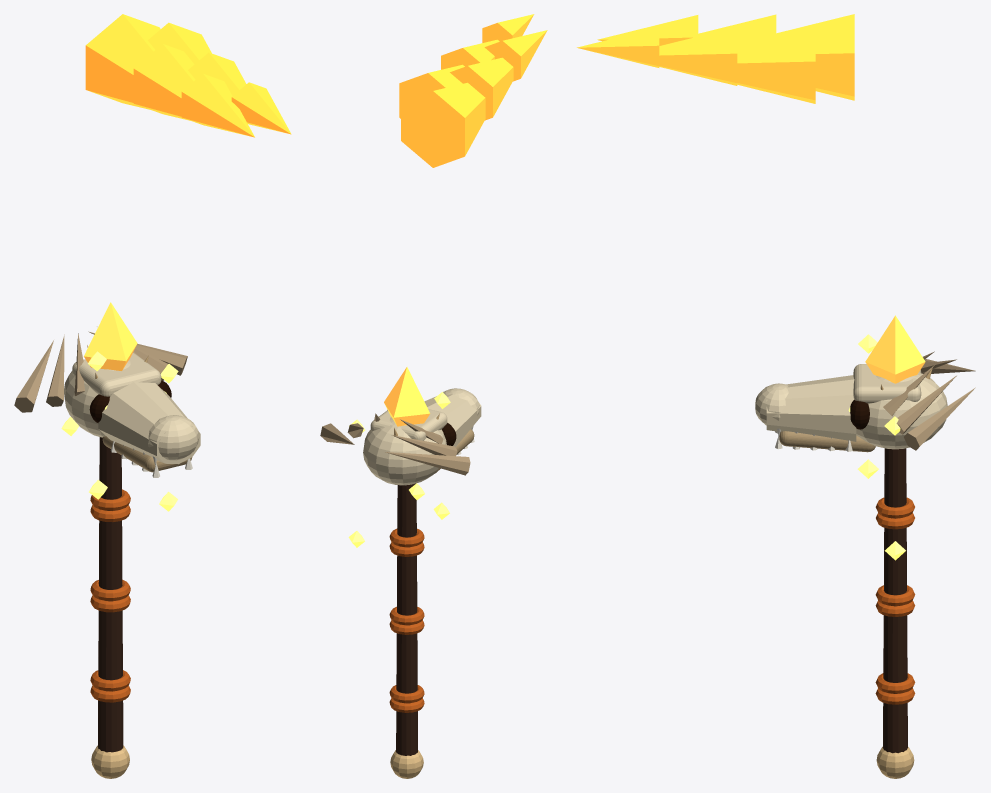
File: drwand.glb
The picture shows the model from 3 angles, left to right: view 1: azimuth 30°, elevation 25°; view 2: azimuth 150°, elevation 25°; view 3: azimuth 270°, elevation 25°; orthographic projection. The views are drawn at different scales.
Parts seen in each view (by area): view 1: flame, bone, rod, wrap, horn, gem, ember, fitting, boneDark, socket; view 2: flame, bone, rod, horn, wrap, gem, fitting, ember; view 3: flame, bone, rod, wrap, horn, gem, boneDark, fitting, ember.
Part boxes in pixels (x1,y1,x2,y2): flame: (85,14,291,137); bone: (64,353,200,464); rod: (98,437,123,752); wrap: (90,489,130,702); horn: (14,331,187,412); gem: (84,302,137,370); ember: (61,351,178,511); fitting: (87,345,148,778); boneDark: (102,436,192,472); socket: (89,380,171,422); flame: (399,14,547,167); bone: (363,388,481,485); rod: (396,483,417,755); horn: (320,413,470,475); wrap: (389,528,424,712); gem: (384,367,430,426); fitting: (390,413,439,778); ember: (348,392,450,547); flame: (577,14,854,103); bone: (755,364,947,449); rod: (883,448,907,753); wrap: (875,497,915,704); horn: (883,351,975,450); gem: (865,315,925,383); boneDark: (779,431,875,452); fitting: (876,368,932,778); ember: (848,334,905,560).
Size of the model in its own units: 0.7963 by 3.46 by 1.66.
